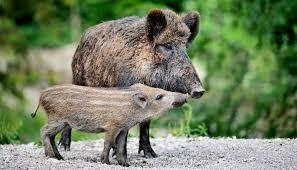wildboar: (24, 81, 191, 164), (70, 6, 206, 99)
